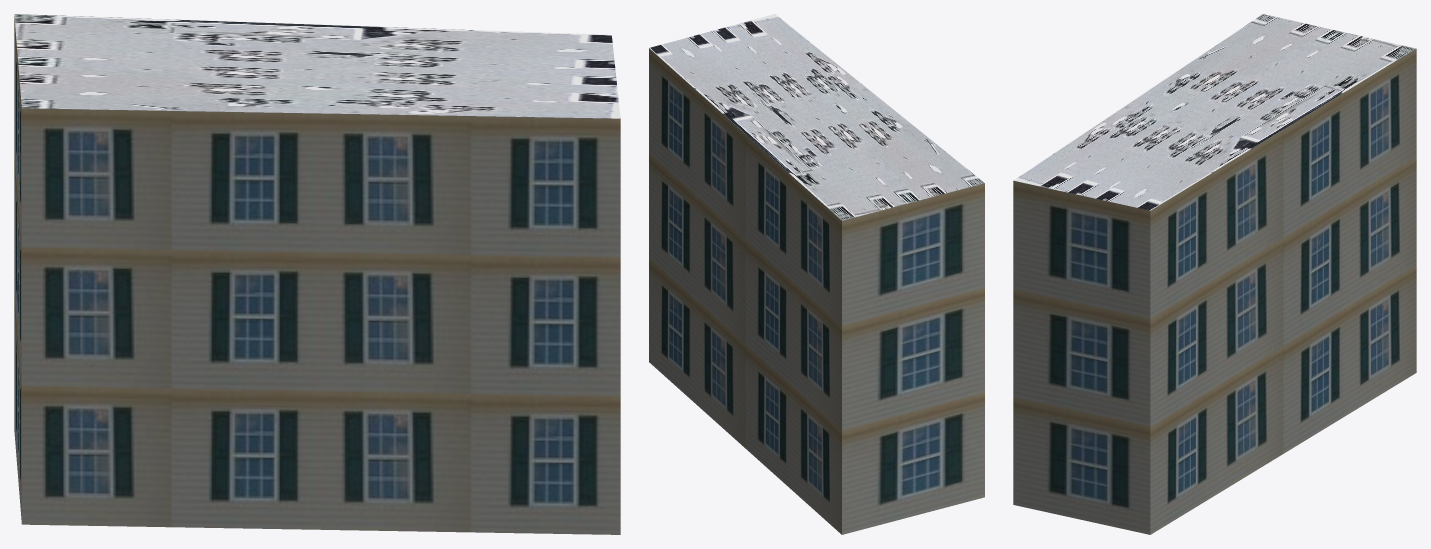
File: ResTex__1211.fbx
3 renders of one model, left to right at view 1: azimuth 30°, elevation 25°; view 2: azimuth 150°, elevation 25°; view 3: azimuth 270°, elevation 25°, orthographic. The views are drawn at different scales.
Parts seen in each view (by area): view 1: CityEngineMaterial_7_m, CityEngineMaterial_m; view 2: CityEngineMaterial_7_m, CityEngineMaterial_m; view 3: CityEngineMaterial_7_m, CityEngineMaterial_m.
Boxes of the visible parts, bbox=[...] form: CityEngineMaterial_7_m: bbox=[14, 16, 620, 534]; CityEngineMaterial_m: bbox=[14, 14, 620, 118]; CityEngineMaterial_7_m: bbox=[649, 48, 984, 534]; CityEngineMaterial_m: bbox=[649, 14, 984, 220]; CityEngineMaterial_7_m: bbox=[1013, 48, 1416, 534]; CityEngineMaterial_m: bbox=[1014, 14, 1415, 210].
Bounding box in the file's own units: 11.71 × 9 × 10.14.
2 materials, 2 textured.
